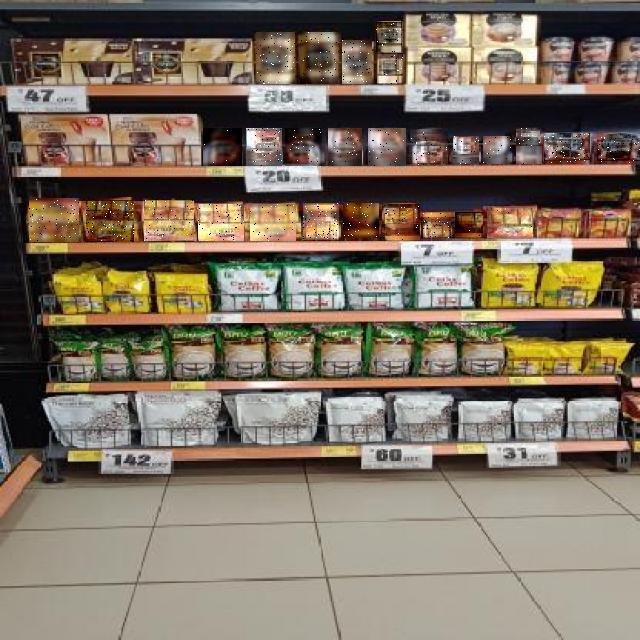Coffee: (29, 198, 79, 242), (144, 200, 194, 242), (256, 33, 295, 85), (86, 200, 134, 242), (300, 33, 338, 85), (199, 204, 245, 241), (250, 204, 296, 241), (203, 128, 242, 166), (368, 128, 406, 166), (286, 128, 324, 166), (487, 207, 533, 238), (383, 204, 421, 241), (544, 134, 590, 164), (410, 129, 448, 165), (247, 128, 283, 166), (303, 203, 339, 240), (343, 41, 373, 85), (343, 204, 379, 240), (329, 128, 363, 166), (597, 134, 640, 164), (377, 53, 403, 84), (484, 136, 512, 164), (376, 22, 402, 52), (455, 213, 483, 239), (423, 213, 451, 239), (453, 136, 479, 164), (516, 147, 542, 165), (517, 128, 541, 146)
